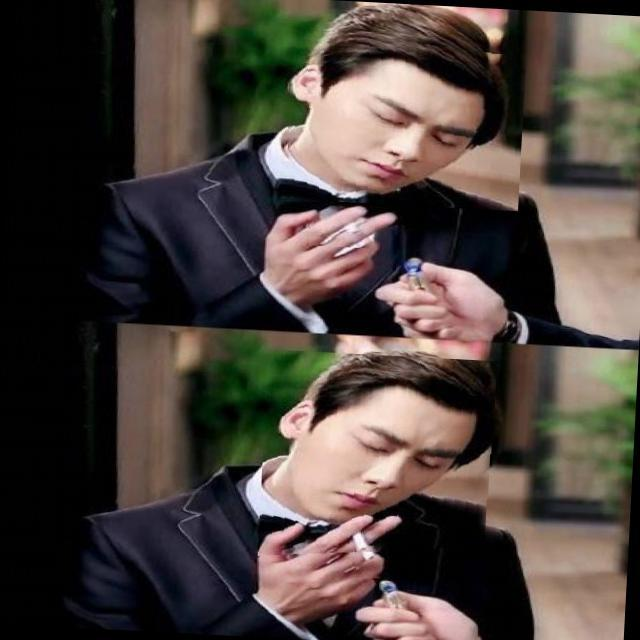cigarette: (305, 202, 376, 249), (351, 524, 392, 581)
